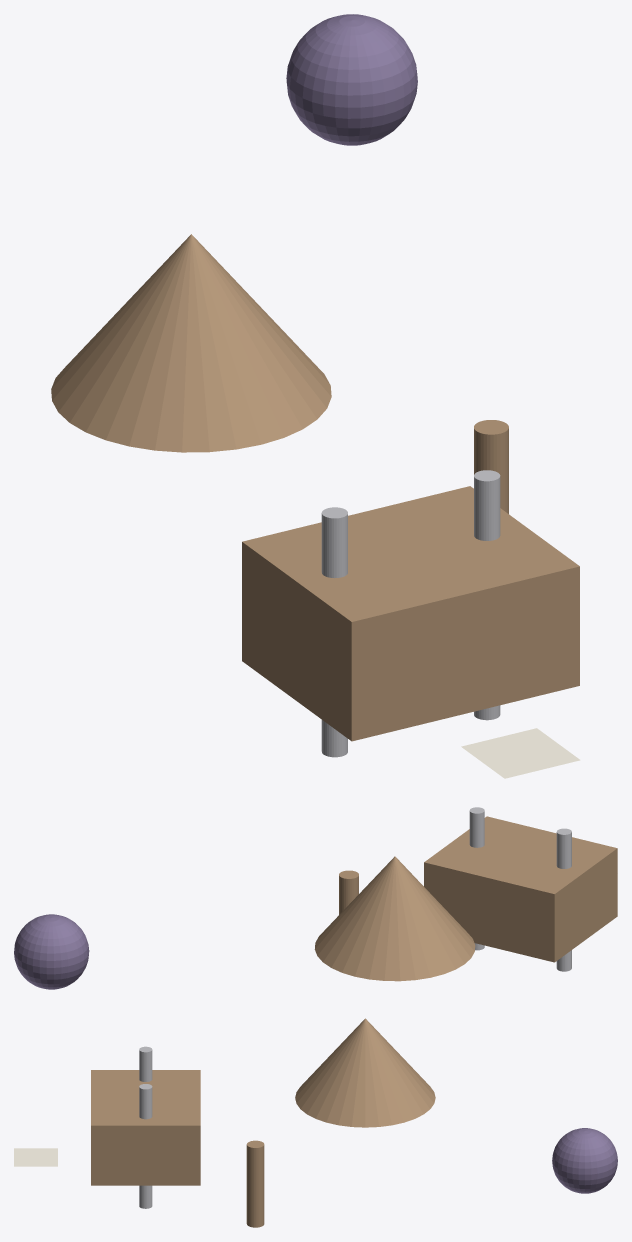
File: ENV_Quietvale.glb
3 renders of one model, top to bottom at view 1: azimuth 30°, elevation 25°; view 2: azimuth 150°, elevation 25°; view 3: azimuth 270°, elevation 25°, orthographic. The views are drawn at different scales.
Parts seen in each view (by area): view 1: ENV_Quietvale_House, ENV_Quietvale_Roof, ENV_Quietvale_Tree_Leaves, ENV_Quietvale_Path, ENV_Quietvale_Gate_L, ENV_Quietvale_Gate_R, ENV_Quietvale_Tree_Trunk; view 2: ENV_Quietvale_House, ENV_Quietvale_Roof, ENV_Quietvale_Tree_Leaves, ENV_Quietvale_Gate_L, ENV_Quietvale_Gate_R, ENV_Quietvale_Tree_Trunk; view 3: ENV_Quietvale_House, ENV_Quietvale_Roof, ENV_Quietvale_Tree_Leaves, ENV_Quietvale_Tree_Trunk, ENV_Quietvale_Path, ENV_Quietvale_Gate_R, ENV_Quietvale_Gate_L.
Part boxes in pixels (left/top/right/bottom): ENV_Quietvale_House: left=242, top=486, right=579, bottom=741; ENV_Quietvale_Roof: left=51, top=234, right=331, bottom=452; ENV_Quietvale_Tree_Leaves: left=286, top=14, right=417, bottom=145; ENV_Quietvale_Path: left=461, top=728, right=580, bottom=778; ENV_Quietvale_Gate_L: left=321, top=507, right=347, bottom=757; ENV_Quietvale_Gate_R: left=474, top=470, right=500, bottom=720; ENV_Quietvale_Tree_Trunk: left=474, top=420, right=508, bottom=513; ENV_Quietvale_House: left=424, top=816, right=617, bottom=962; ENV_Quietvale_Roof: left=314, top=856, right=475, bottom=981; ENV_Quietvale_Tree_Leaves: left=14, top=914, right=89, bottom=989; ENV_Quietvale_Gate_L: left=556, top=828, right=571, bottom=971; ENV_Quietvale_Gate_R: left=469, top=807, right=484, bottom=950; ENV_Quietvale_Tree_Trunk: left=339, top=870, right=358, bottom=914; ENV_Quietvale_House: left=91, top=1070, right=200, bottom=1185; ENV_Quietvale_Roof: left=295, top=1018, right=435, bottom=1127; ENV_Quietvale_Tree_Leaves: left=552, top=1128, right=617, bottom=1193; ENV_Quietvale_Tree_Trunk: left=246, top=1140, right=264, bottom=1227; ENV_Quietvale_Path: left=14, top=1148, right=57, bottom=1166; ENV_Quietvale_Gate_R: left=139, top=1084, right=152, bottom=1208; ENV_Quietvale_Gate_L: left=139, top=1046, right=152, bottom=1081.
Size of the model in its own units: 14.7 by 8.5 by 27.5.
